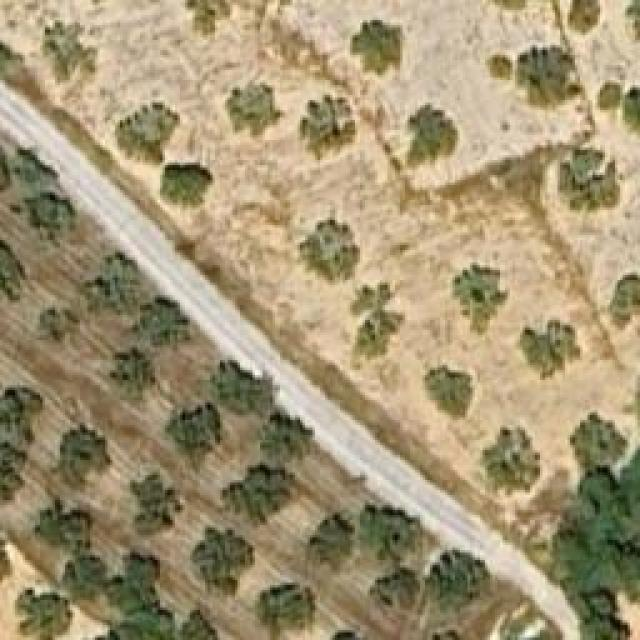Tree: (218, 463, 313, 528), (348, 288, 404, 365), (112, 103, 180, 166), (450, 263, 508, 336), (53, 425, 113, 493), (247, 582, 315, 640), (193, 528, 253, 593), (560, 148, 620, 211), (357, 505, 425, 560), (210, 360, 273, 418), (80, 253, 138, 316), (122, 295, 190, 348), (300, 95, 355, 160), (225, 80, 285, 138), (520, 320, 580, 378), (485, 428, 540, 491), (130, 473, 183, 536), (408, 103, 458, 168), (425, 550, 490, 600), (168, 405, 223, 463), (43, 23, 96, 83), (600, 78, 640, 151), (568, 418, 621, 473), (423, 362, 473, 420), (35, 503, 93, 553), (353, 20, 406, 73), (260, 408, 313, 461), (307, 512, 355, 570), (520, 50, 570, 105), (160, 162, 213, 210), (312, 220, 360, 273), (370, 568, 420, 618), (0, 440, 38, 505), (0, 387, 42, 444), (15, 592, 63, 640), (110, 348, 155, 391), (0, 238, 28, 303), (25, 195, 70, 235), (60, 560, 105, 598), (610, 270, 640, 310), (568, 0, 601, 35), (180, 607, 215, 640), (195, 0, 228, 30), (493, 58, 513, 78)
